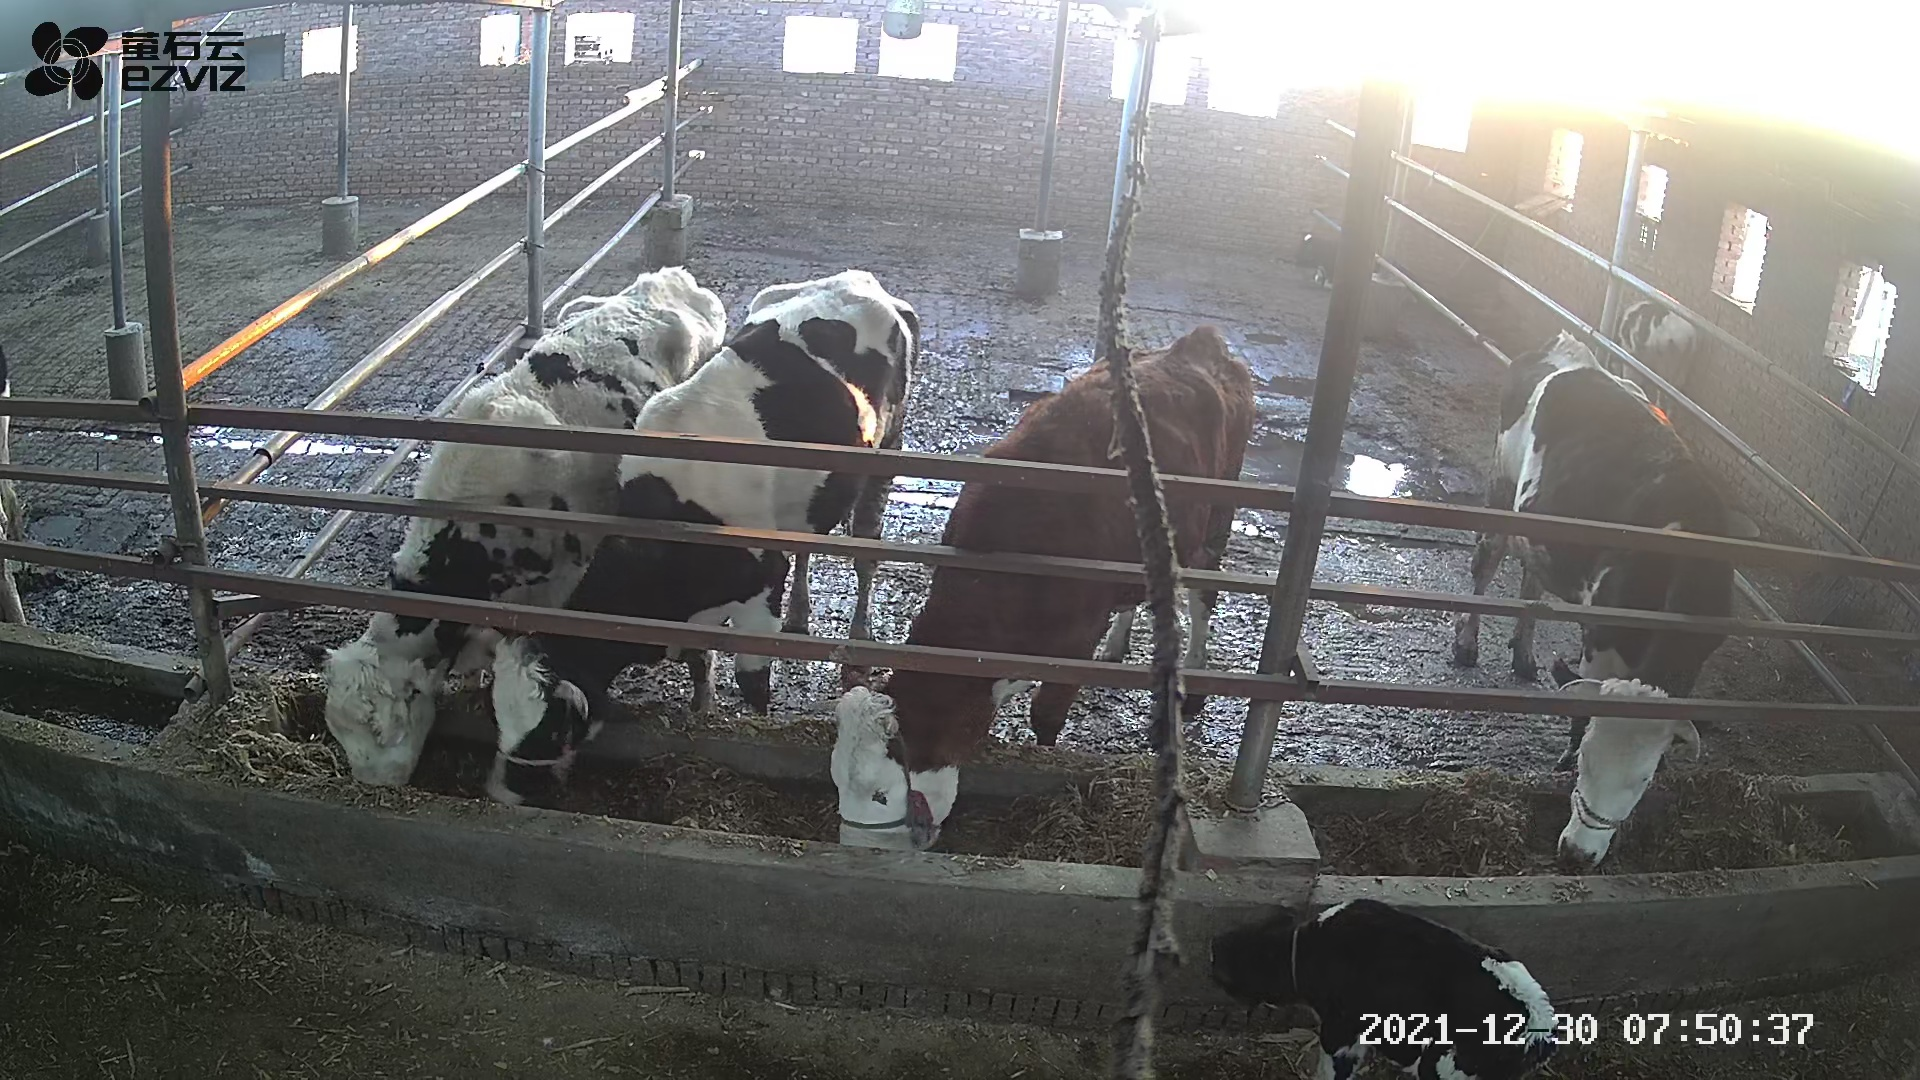cow: (462, 266, 919, 807), (299, 262, 727, 791), (828, 324, 1253, 853), (1448, 327, 1734, 872)
